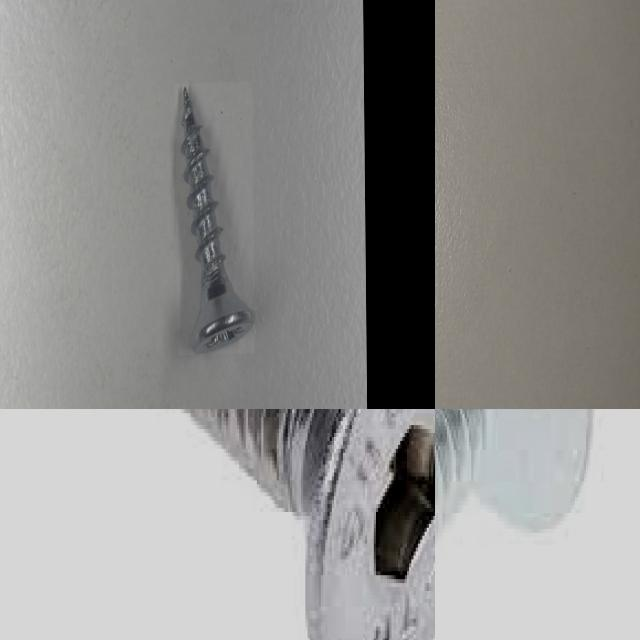Screw: (190, 409, 435, 640), (435, 409, 596, 552), (181, 86, 255, 353)
